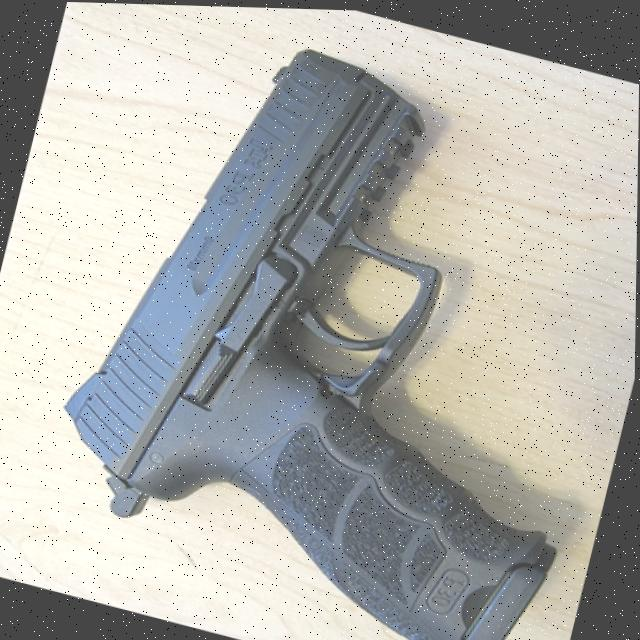pistol: (24, 8, 640, 640)
